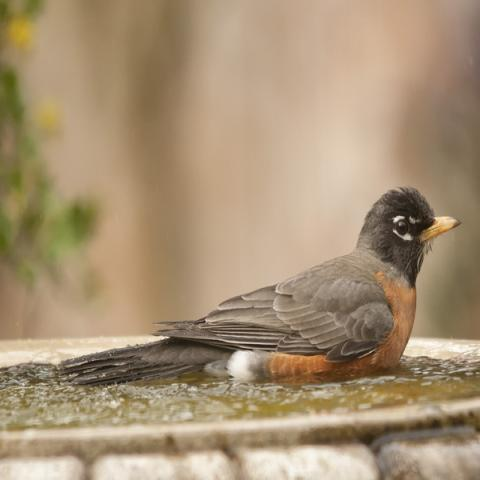bird: (56, 183, 462, 389)
